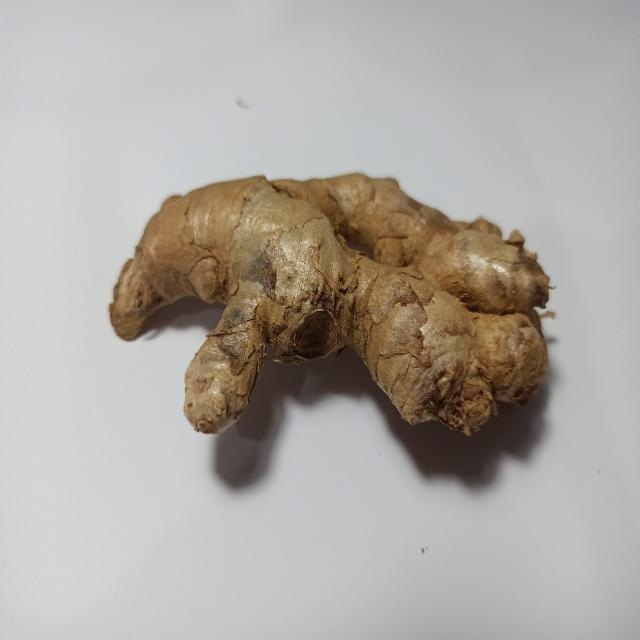ginger: (114, 173, 551, 438)
